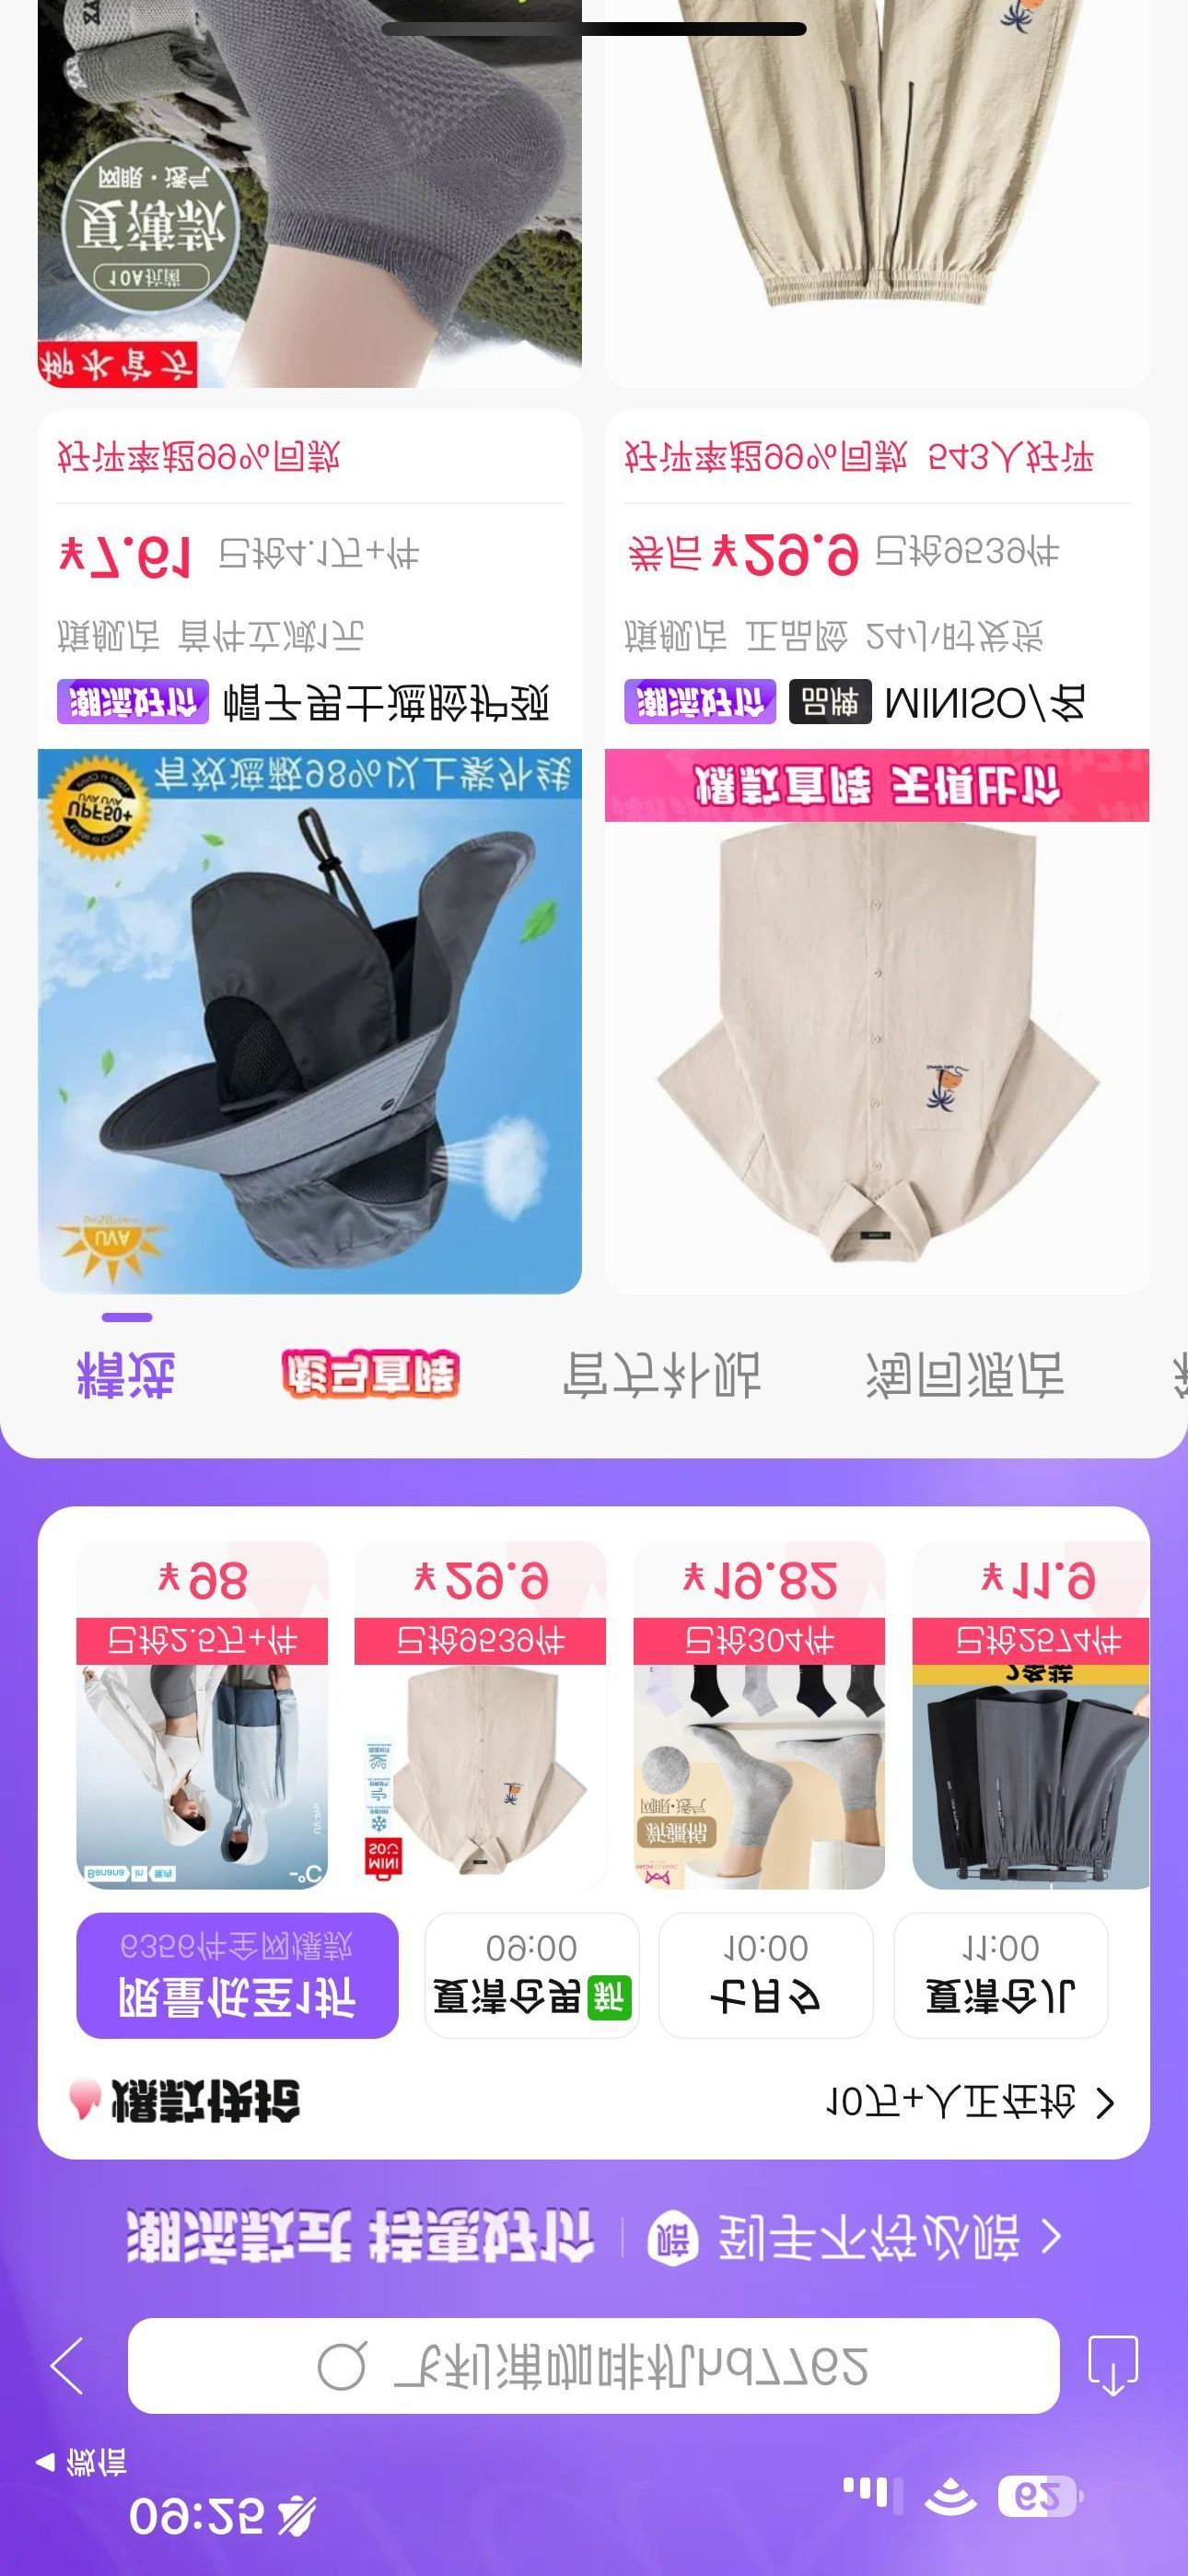item: (5, 393, 590, 1318), (595, 404, 1183, 1319)
op_bar: (13, 2302, 1188, 2443)
seckill: (12, 1475, 1181, 2178)
